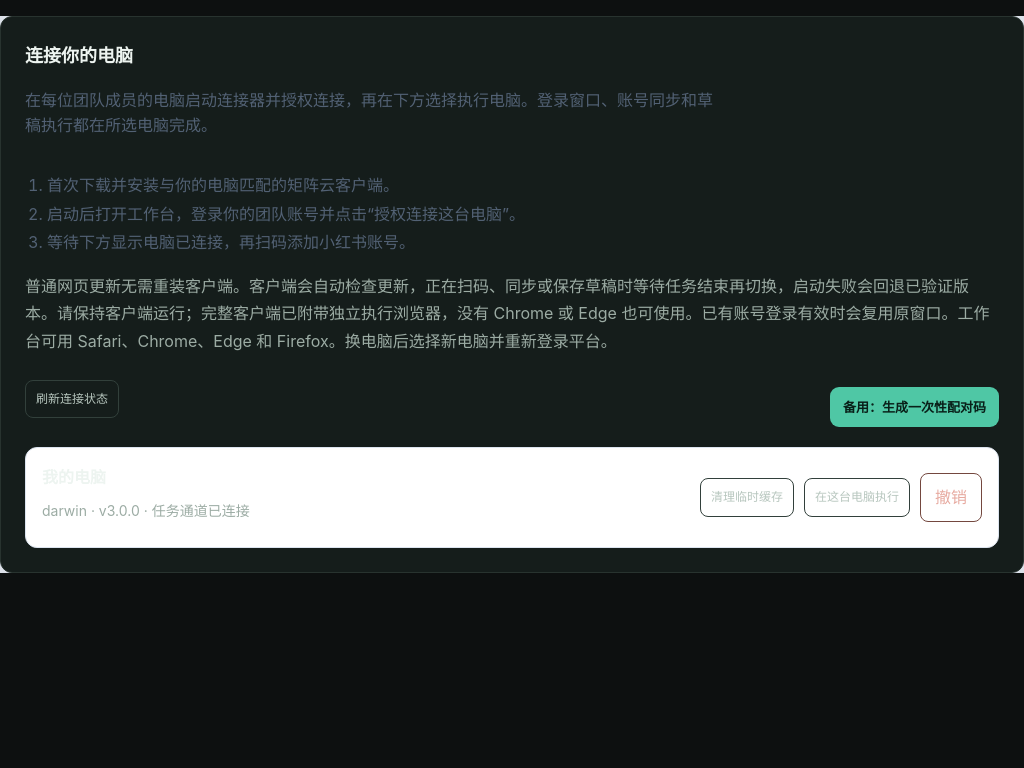
Test case: keeps the code visible after polls and refreshes device execution state
Click the button "备用：生成一次性配对码".
click(914, 407)  # box [830,387,999,427]
Wait 6600 ms
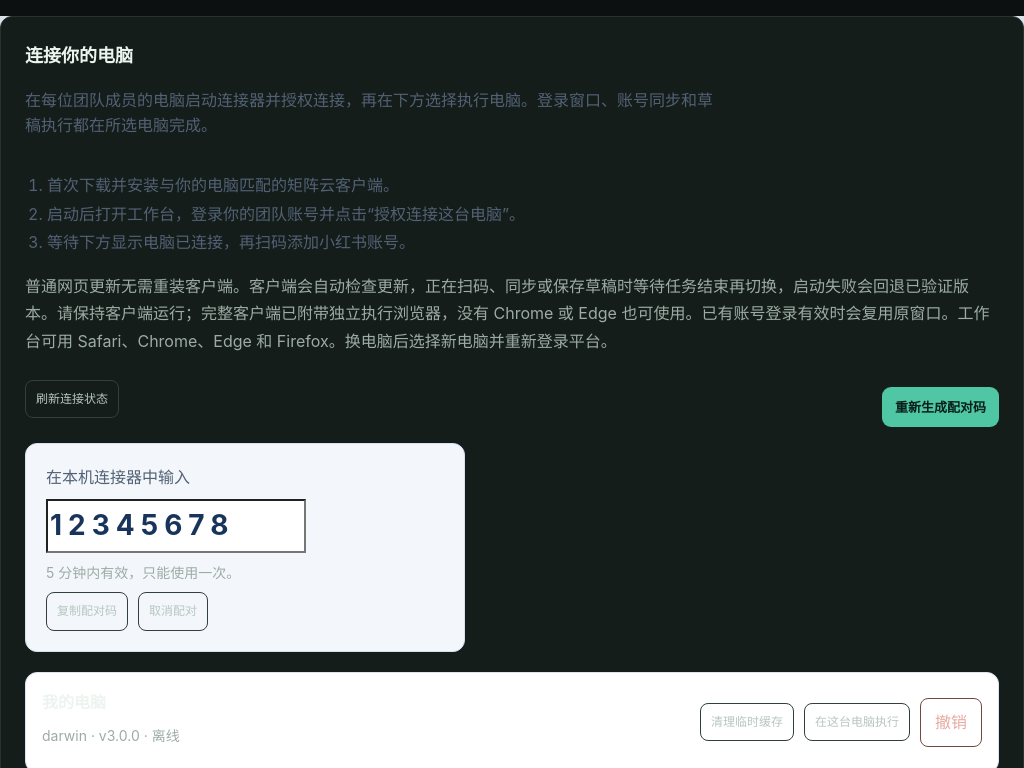
Expected: the field named "一次性配对码" holds "12345678", [46,499,306,553]
Expected: the text "darwin · v3.0.0 · 离线" is shown, [42,724,180,748]
